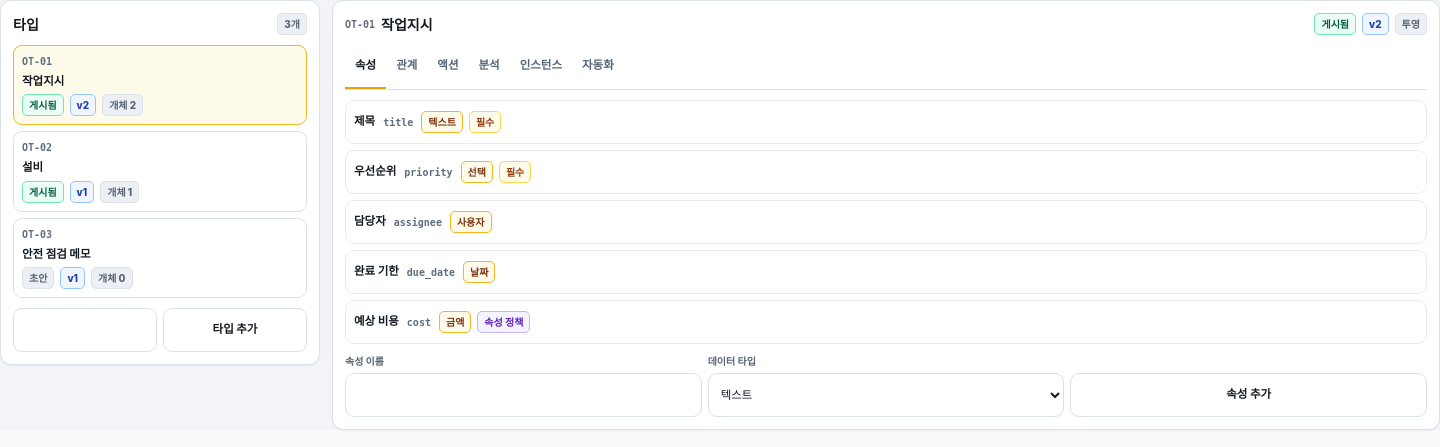
Test: OntologyManagerScreen (design change-log 63) › hands every accumulated draft snapshot to its host immediately
Click the button with aria-label "OT-03 안전 점검 메모 타입 편집" at [37, 234], box [13,218,307,298]
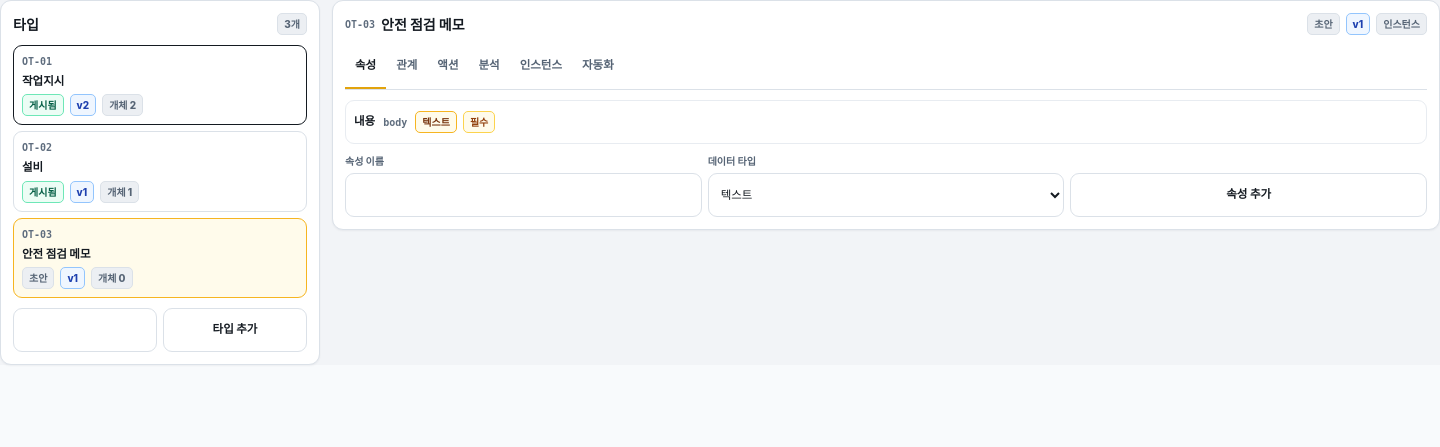
Type "점검자" into the field labelled "속성 이름" at [523, 195], box [345,173,702,217]
Click the button "속성 추가" at [1249, 195], box [1070,173,1427,217]
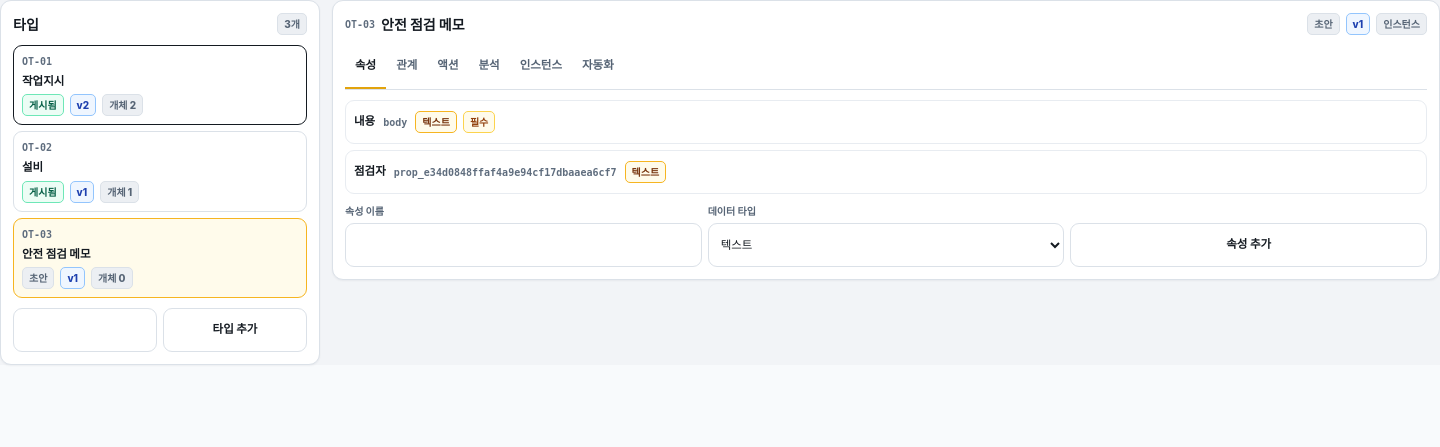
Type "점검일" into the field labelled "속성 이름" at [523, 245], box [345,223,702,267]
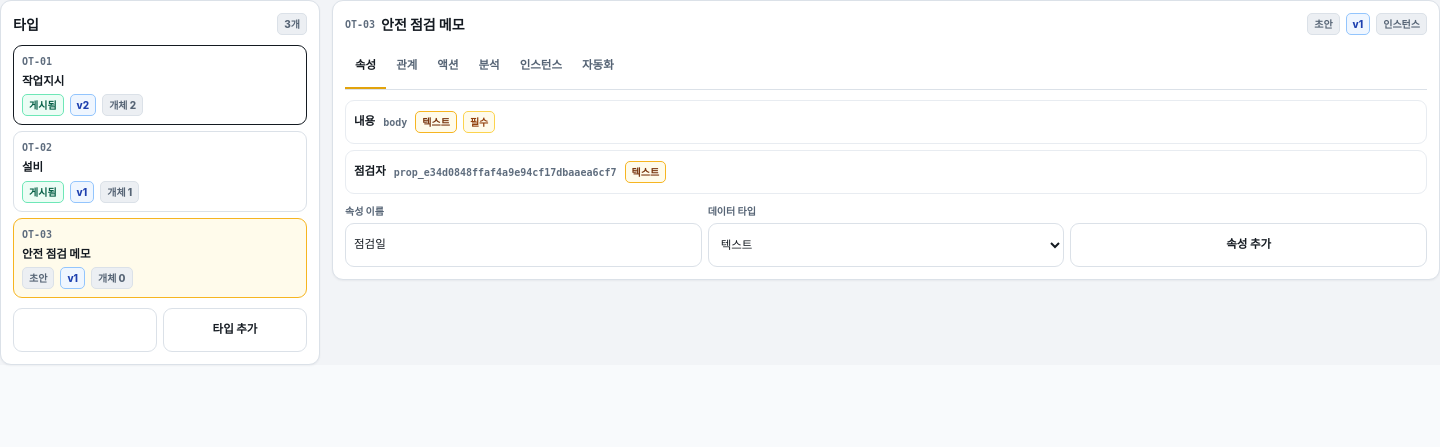
Click the button "속성 추가" at [1249, 245], box [1070,223,1427,267]
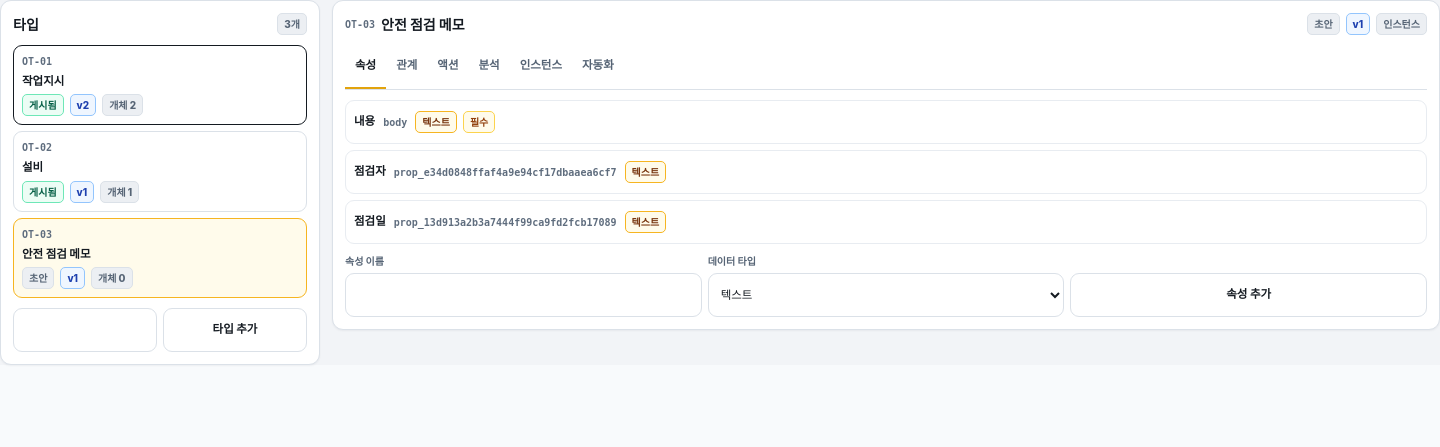
Type "점검 위치" into the field labelled "속성 이름" at [523, 295], box [345,273,702,317]
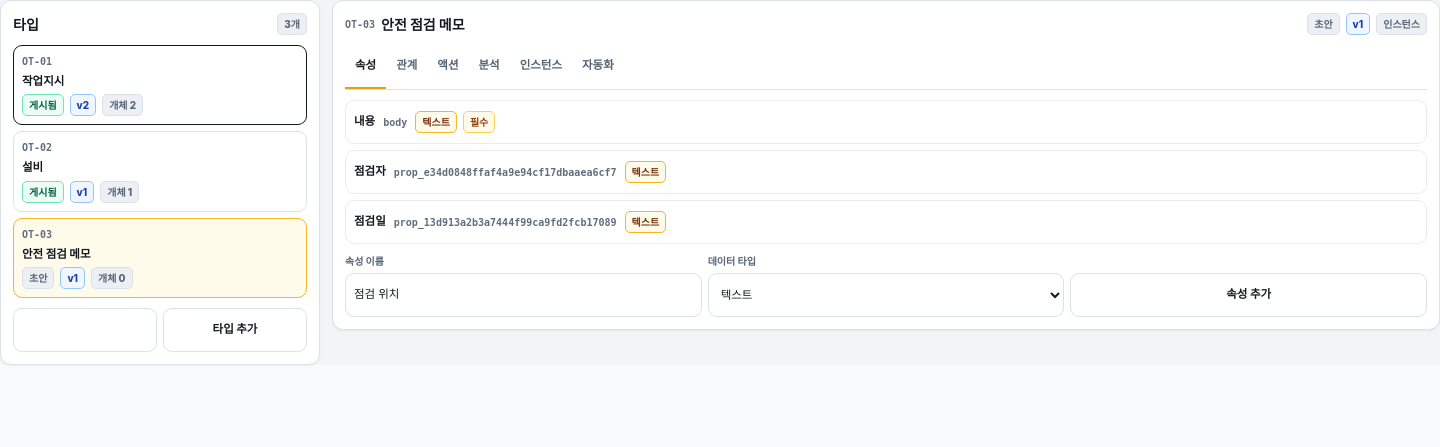
Click the button "속성 추가" at [1249, 295], box [1070,273,1427,317]
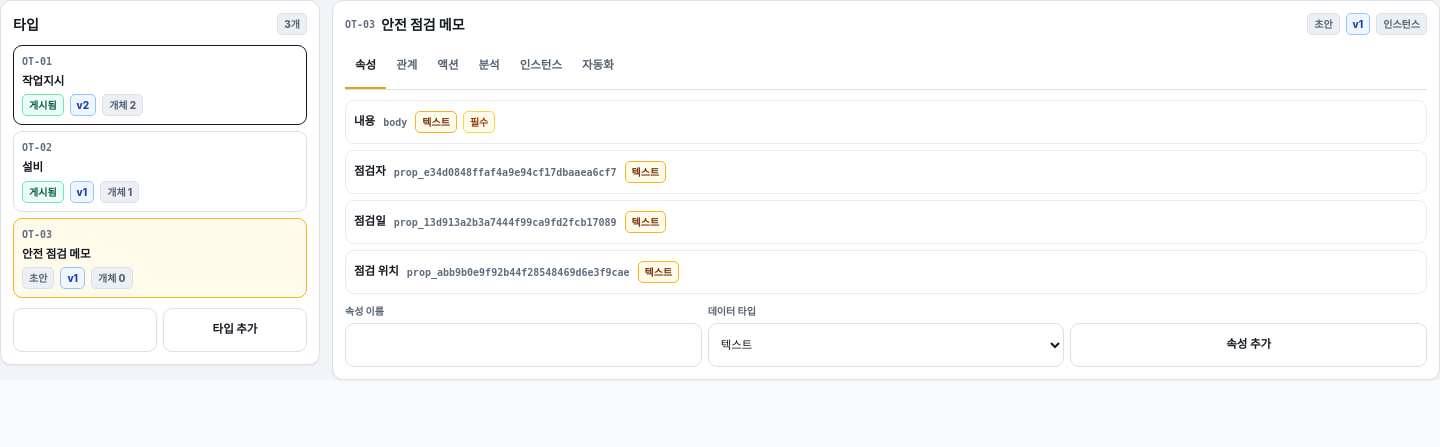
Result: the text "점검자" is shown at [354,163,386,181]
Result: the text "점검일" is shown at [354,213,386,231]
Result: the text "점검 위치" is shown at [354,263,399,281]
